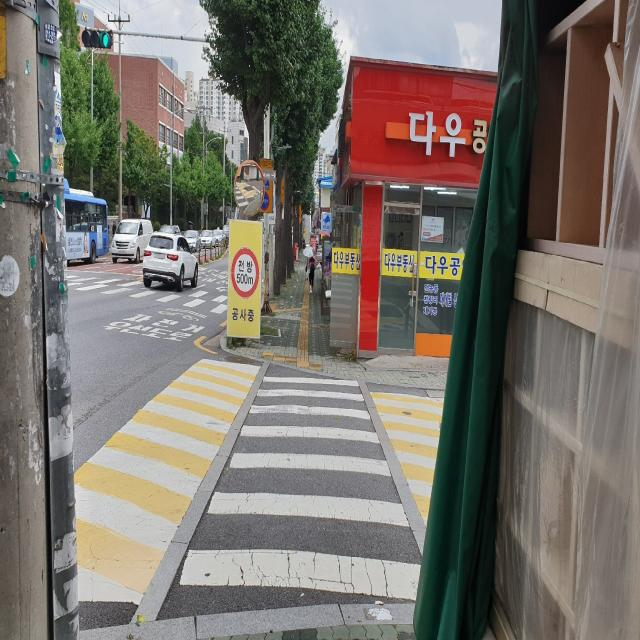횡단보도: (177, 371, 423, 604), (66, 272, 227, 310)
